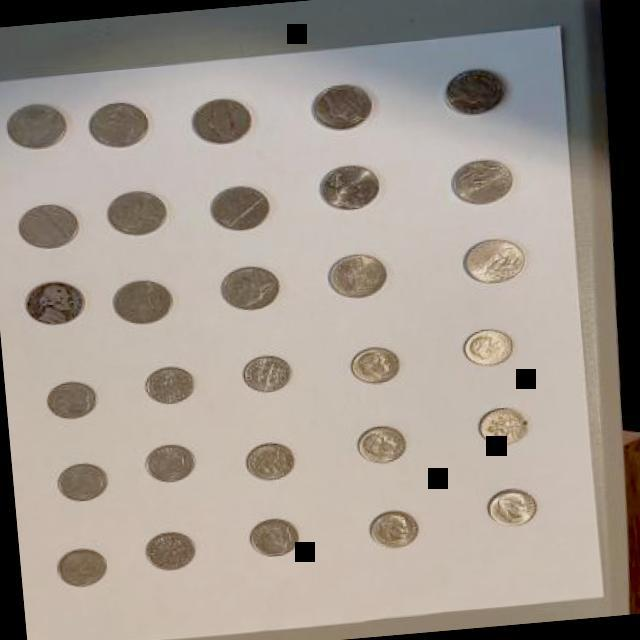Dime: (364, 506, 422, 554), (52, 459, 111, 506), (50, 546, 110, 591), (239, 442, 300, 486), (352, 423, 411, 468), (246, 515, 302, 561), (476, 406, 534, 450), (483, 487, 539, 532), (42, 379, 98, 424), (142, 529, 198, 573), (141, 363, 197, 407), (459, 326, 515, 370), (142, 444, 198, 486), (349, 344, 404, 386), (242, 354, 293, 396)
Nickel: (454, 235, 528, 291), (15, 200, 86, 256), (314, 160, 384, 216), (0, 100, 72, 154), (438, 66, 508, 121), (214, 262, 284, 316), (447, 156, 518, 208), (104, 186, 174, 238), (86, 100, 156, 152), (207, 182, 274, 235), (309, 82, 377, 134), (326, 250, 391, 303), (110, 276, 176, 328), (190, 97, 256, 149), (23, 278, 88, 330)
